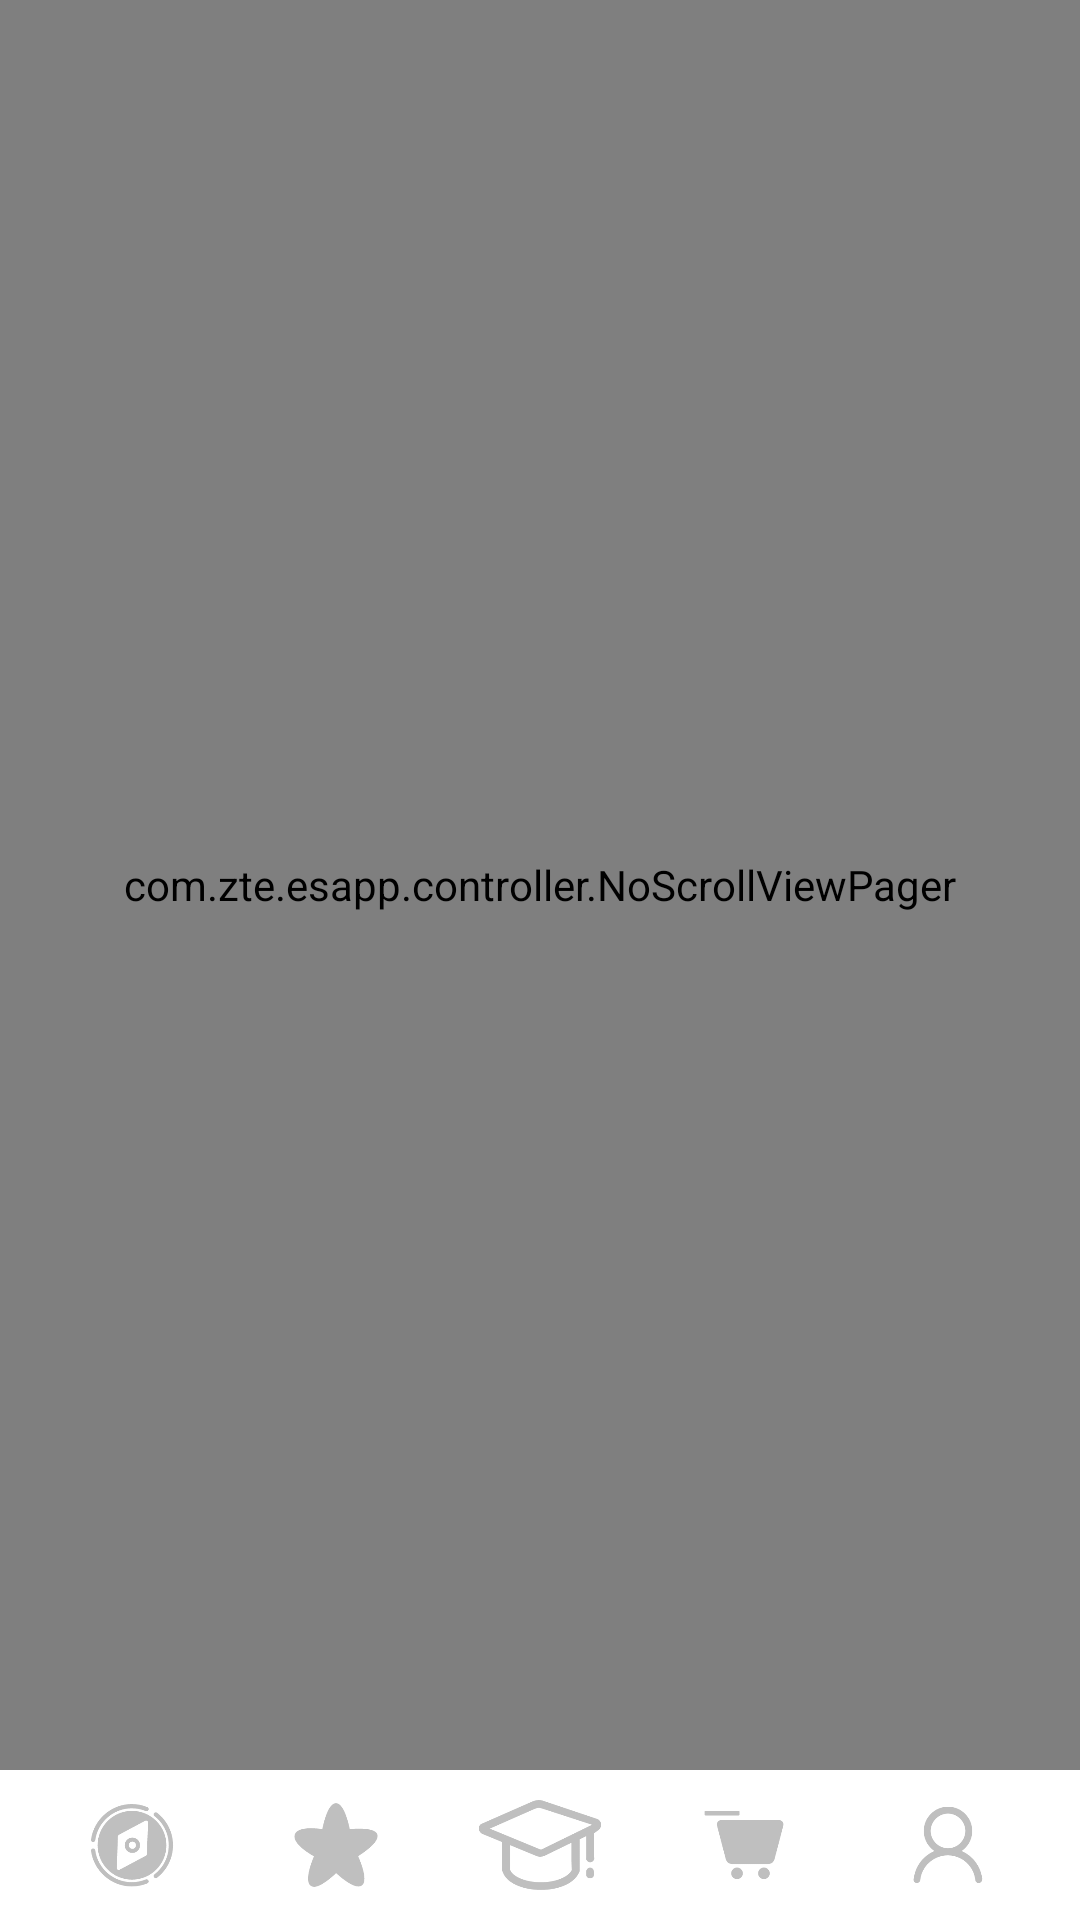

Icon bounding boxes for this 1080px×1920px phone screenshot, format (x1, y1, x2, y2):
bought: (705, 1811, 783, 1879)
discovery: (91, 1804, 173, 1886)
up class: (479, 1800, 601, 1890)
